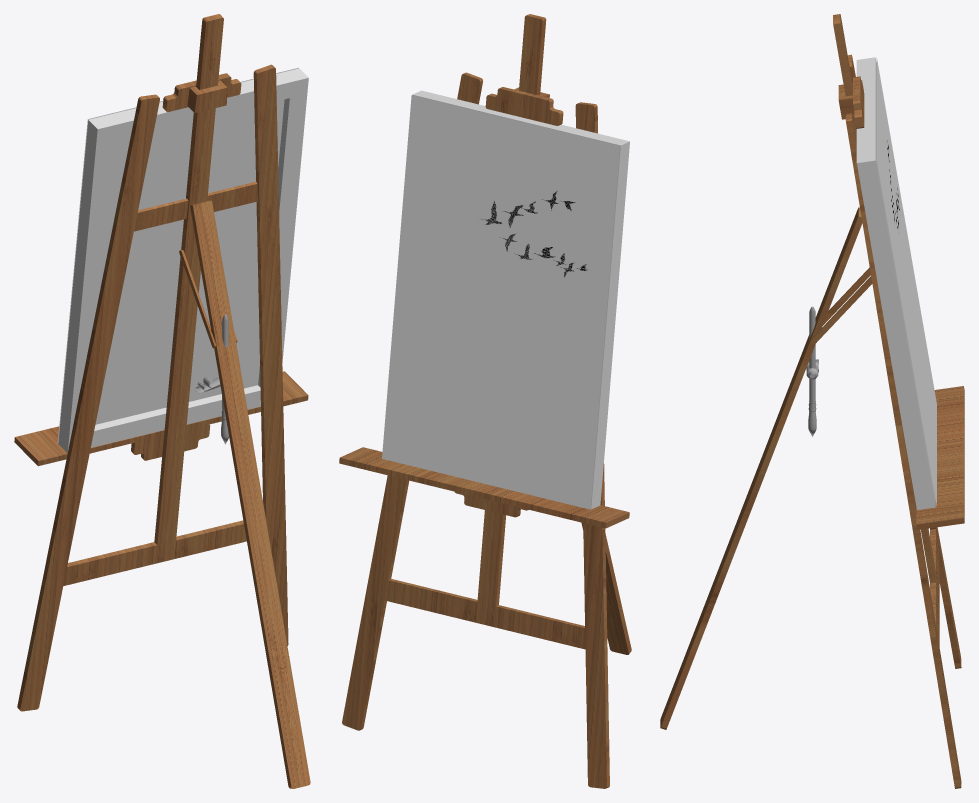
File: Painting Mini Game Props.fbx
3 views of the same model, side by side, from view 1: azimuth 30°, elevation 25°; view 2: azimuth 150°, elevation 25°; view 3: azimuth 270°, elevation 25° (orthographic).
Parts seen in each view (by area): view 1: Easel, Canvas; view 2: Second_Plan_Birds_Stencil, First_Plan_Deer_Stencil, Easel, First_Plan_Palm_Trees_Stencil, Canvas, First_Plan_Willows_Stencil, Second_Plan_Mountains_Stencil; view 3: Easel, Canvas, Second_Plan_Birds_Stencil, Paint_Brush_Prop.
Part boxes in pixels (bbox=[...]): Easel: bbox=[14, 14, 310, 788]; Canvas: bbox=[58, 68, 308, 453]; Second_Plan_Birds_Stencil: bbox=[382, 95, 620, 509]; First_Plan_Deer_Stencil: bbox=[390, 97, 619, 407]; Easel: bbox=[339, 14, 631, 788]; First_Plan_Palm_Trees_Stencil: bbox=[387, 295, 603, 439]; Canvas: bbox=[412, 90, 629, 509]; First_Plan_Willows_Stencil: bbox=[390, 305, 602, 450]; Second_Plan_Mountains_Stencil: bbox=[382, 371, 590, 502]; Easel: bbox=[660, 14, 964, 788]; Canvas: bbox=[856, 57, 935, 509]; Second_Plan_Birds_Stencil: bbox=[876, 57, 936, 506]; Paint_Brush_Prop: bbox=[808, 306, 816, 436].
Size of the model in its own units: 3.39 by 8.5 by 3.31.
9 materials, 7 textured.
